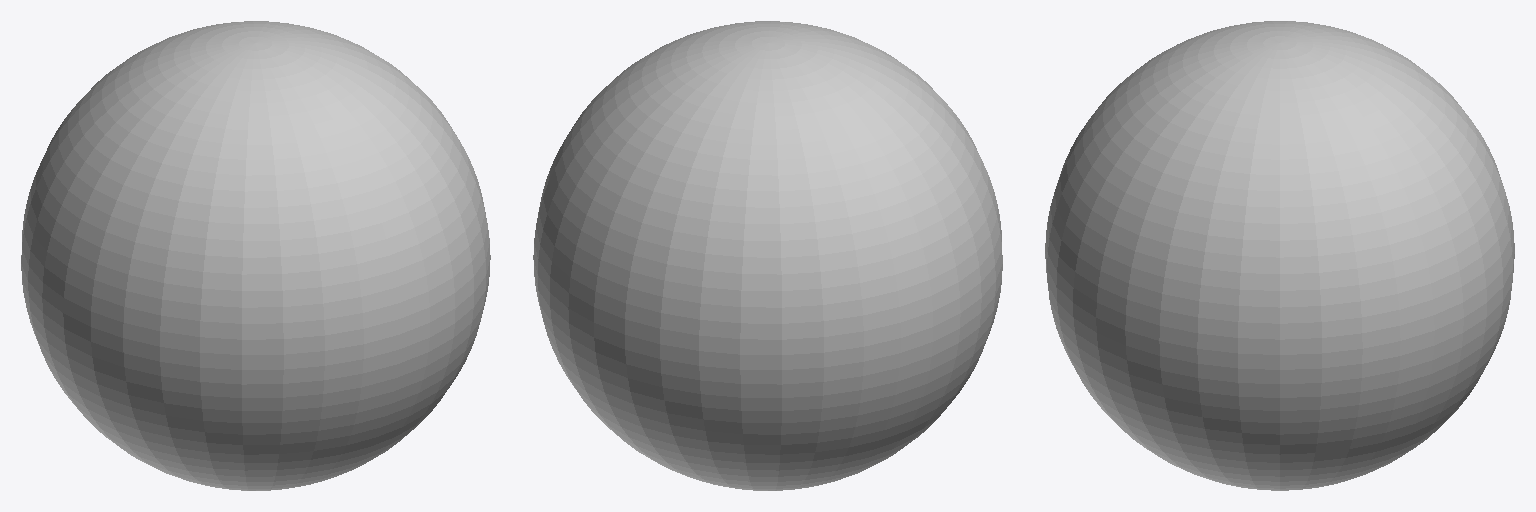
File: earth.obj
The picture shows the model from 3 angles: view 1: azimuth 30°, elevation 25°; view 2: azimuth 150°, elevation 25°; view 3: azimuth 270°, elevation 25°; orthographic projection.
Parts seen in each view (by area): view 1: pSphere2; view 2: pSphere2; view 3: pSphere2.
Boxes of the visible parts, x1=… form: pSphere2: x1=21, y1=21, x2=490, y2=490; pSphere2: x1=533, y1=21, x2=1002, y2=490; pSphere2: x1=1045, y1=21, x2=1514, y2=490.
Size of the model in its own units: 200 by 200 by 200.